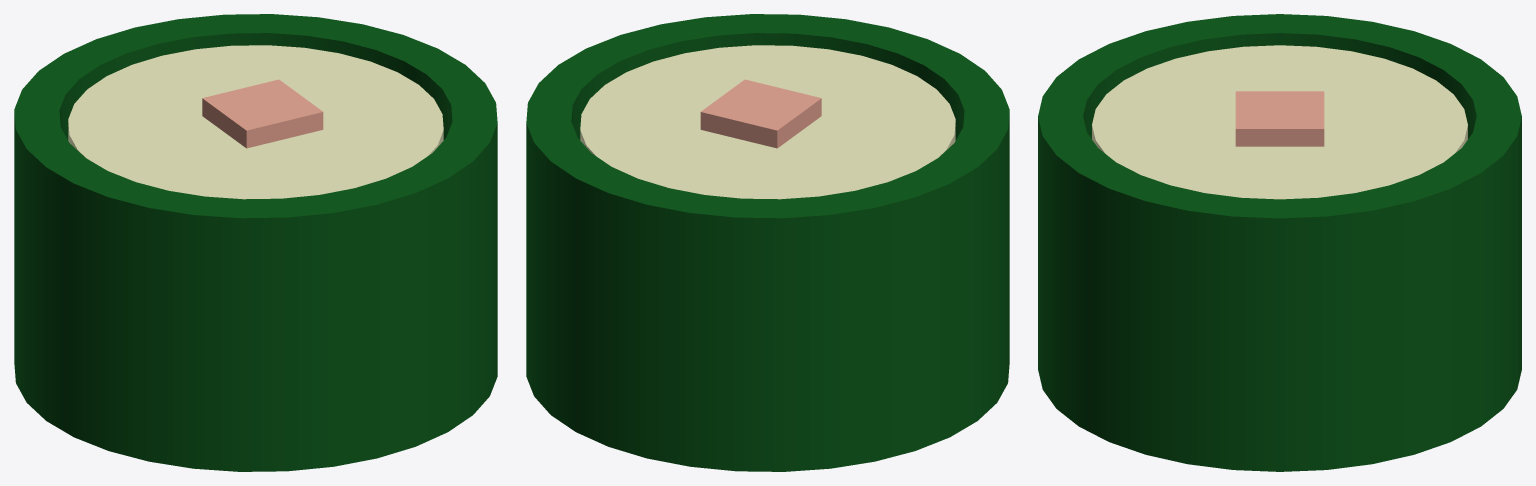
File: Maki_atun.fbx
3 views of the same model, side by side, from view 1: azimuth 30°, elevation 25°; view 2: azimuth 150°, elevation 25°; view 3: azimuth 270°, elevation 25° (orthographic).
Parts seen in each view (by area): view 1: Alga; view 2: Alga; view 3: Alga.
Part boxes in pixels (bbox=[...]): Alga: bbox=[14, 14, 497, 471]; Alga: bbox=[526, 14, 1009, 471]; Alga: bbox=[1038, 14, 1521, 471].
Bounding box in the file's own units: 162 × 97.29 × 162.
